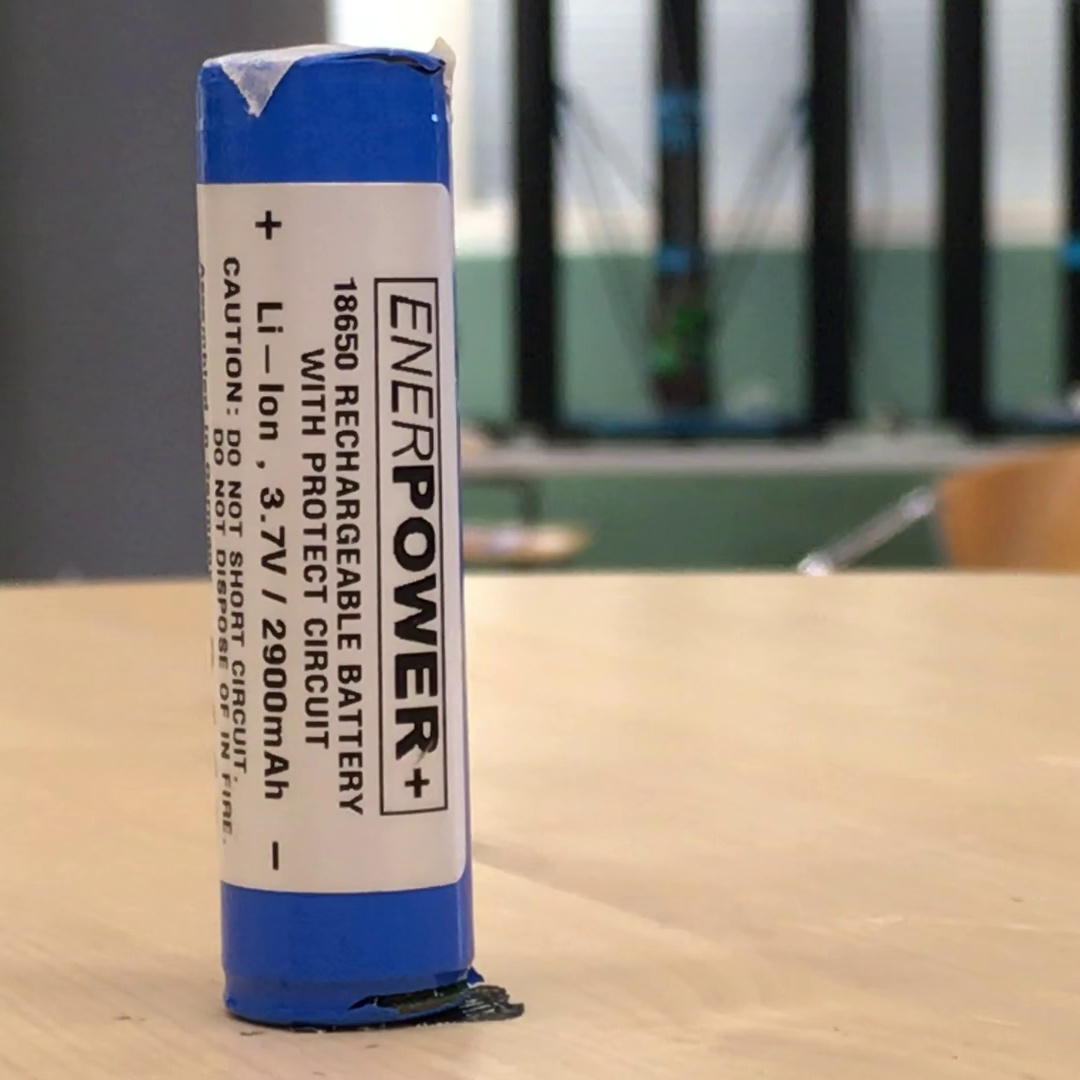keyword: (250, 477, 297, 585)
